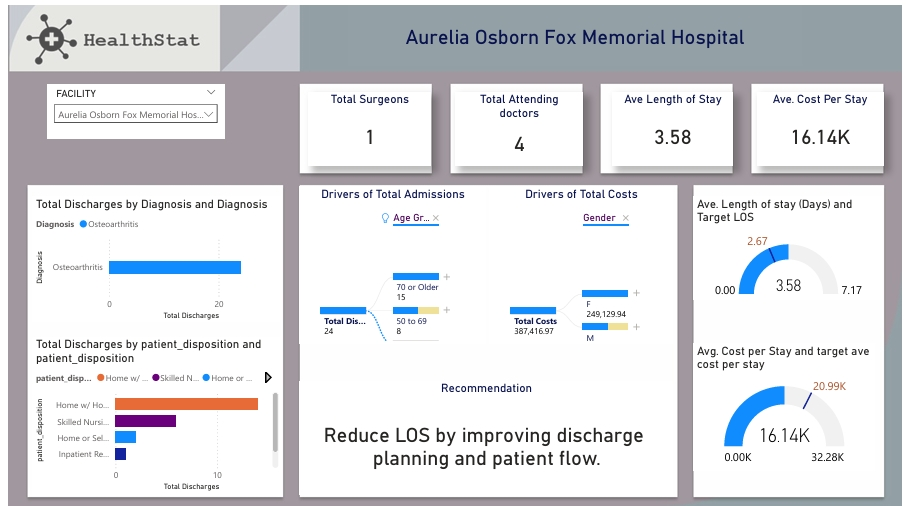

The dashboard page shown, as its layout file describes it:
{"tool":"powerbi","page":{"name":"hospital profile","canvas":[1280,720],"ordinal":3},"visuals":[{"type":"slicer","fields":{"Values":["Dim_Hospital.FACILITY"]},"box":[55.4,112.5,253.6,79],"z":0},{"type":"barChart","fields":{"Y":["Key Measures.Total Discharges"],"Category":["Fact_Admissions.patient_disposition"],"Series":["Fact_Admissions.patient_disposition"]},"box":[33.6,475.4,357.8,225.1],"z":2},{"type":"card","title":"Total Surgeons","fields":{"Values":["Key Measures.Total surgeons"]},"box":[430,124.3,174.7,105.8],"z":3},{"type":"card","title":"Total Attending doctors","fields":{"Values":["Key Measures.total attending doctors"]},"box":[640,124.3,183.1,105.8],"z":4},{"type":"gauge","fields":{"Y":["Key Measures.Ave. Length of stay (Days)"],"TargetValue":["Key Measures.Target LOS"]},"box":[981,273.8,272.1,149.5],"z":7},{"type":"card","title":"Ave Length of Stay","fields":{"Values":["Key Measures.Ave. Length of stay (Days)"]},"box":[865.1,124.3,173,105.8],"z":8},{"type":"card","title":"Ave. Cost Per Stay","fields":{"Values":["Key Measures.Avg. Cost per Stay"]},"box":[1071.7,124.3,181.4,105.8],"z":9},{"type":"gauge","fields":{"Y":["Key Measures.Avg. Cost per Stay"],"TargetValue":["Key Measures.target ave cost per stay"]},"box":[981,483.8,260.4,183.1],"z":10},{"type":"card","fields":{"Values":["Key Measures.Selected Hospital"]},"box":[487.1,0,648.4,85.7],"z":11},{"type":"barChart","fields":{"Y":["Key Measures.Total Discharges"],"Category":["Dim_Diagnosis.Diagnosis"],"Series":["Dim_Diagnosis.Diagnosis"]},"box":[33.6,273.8,357.8,179.7],"z":12},{"type":"decompositionTreeVisual","title":"Drivers of Total Admissions","fields":{"Analyze":["Key Measures.Total Discharges"],"ExplainBy":["Dim_Demographics.Age Group","Dim_Demographics.Ethnicity","Dim_Severity.Severity","Dim_Mortality.Mortality","Dim_Procedure.Procedure","Dim_Diagnosis.Diagnosis","Dim_Demographics.Gender","Dim_Demographics.Race"]},"box":[416.6,258.7,267.1,225.1],"z":13},{"type":"decompositionTreeVisual","title":"Drivers of Total Costs","fields":{"Analyze":["Key Measures.Total Costs"],"ExplainBy":["Dim_Demographics.Gender","Dim_Demographics.Age Group","Dim_Demographics.Ethnicity","Fact_Admissions.patient_disposition","Dim_Procedure.Procedure","Dim_Demographics.Race","Dim_Diagnosis.Diagnosis","Fact_Admissions.Mortality","Dim_Severity.Severity"]},"box":[688.7,258.7,263.7,225.1],"z":14},{"type":"card","title":"Recommendation","fields":{"Values":["Key Measures.Hospital Recommendation"]},"box":[416.6,537.5,535.9,162.9],"z":15}]}

Visuals, with their boxes in screenshot pixels (x1, y1, x2, y2), scaled from the page's 1280x720 canvas onto the 907x506 screenshot:
slicer - Dim_Hospital.FACILITY: detection(39, 79, 219, 135)
barChart - Key Measures.Total Discharges x Fact_Admissions.patient_disposition: detection(24, 334, 277, 492)
"Total Surgeons" card: detection(305, 87, 428, 162)
"Total Attending doctors" card: detection(454, 87, 583, 162)
gauge - Key Measures.Ave. Length of stay (Days) x Key Measures.Target LOS: detection(695, 192, 888, 297)
"Ave Length of Stay" card: detection(613, 87, 736, 162)
"Ave. Cost Per Stay" card: detection(759, 87, 888, 162)
gauge - Key Measures.Avg. Cost per Stay x Key Measures.target ave cost per stay: detection(695, 340, 880, 469)
card - Key Measures.Selected Hospital: detection(345, 0, 805, 60)
barChart - Key Measures.Total Discharges x Dim_Diagnosis.Diagnosis: detection(24, 192, 277, 319)
"Drivers of Total Admissions" decompositionTreeVisual: detection(295, 182, 484, 340)
"Drivers of Total Costs" decompositionTreeVisual: detection(488, 182, 675, 340)
"Recommendation" card: detection(295, 378, 675, 492)
